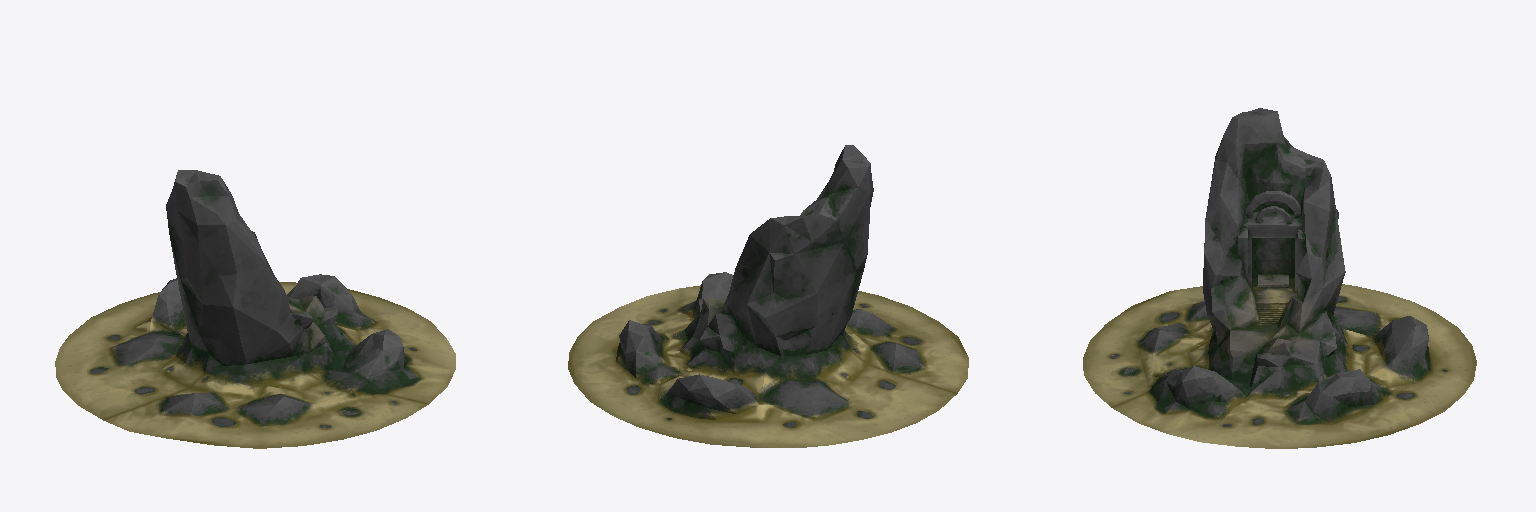
3 renders of one model, left to right at view 1: azimuth 30°, elevation 25°; view 2: azimuth 150°, elevation 25°; view 3: azimuth 270°, elevation 25°, orthographic.
Parts seen in each view (by area): view 1: Base; view 2: Base; view 3: Base.
Part boxes in pixels (left/top/right/bottom): Base: left=55, top=170, right=455, bottom=448; Base: left=568, top=145, right=968, bottom=447; Base: left=1083, top=108, right=1476, bottom=448.
Bounding box in the file's own units: 58.08 × 34.62 × 56.71.
1 materials, 1 textured.